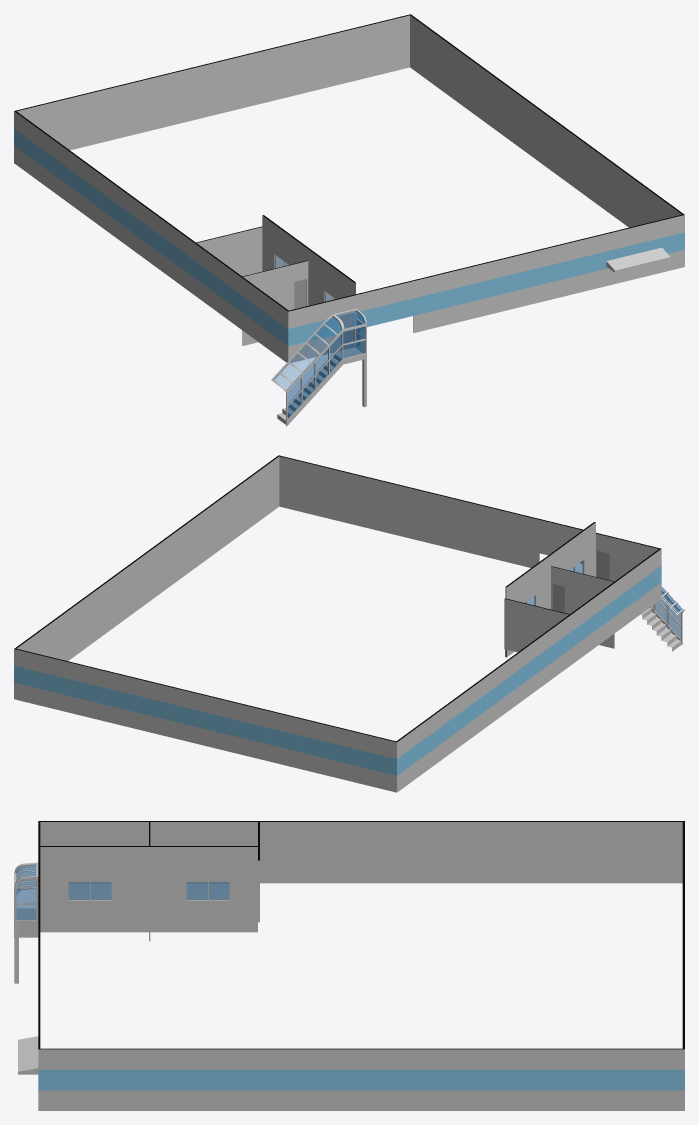
3 renders of one model, top to bottom at view 1: azimuth 30°, elevation 25°; view 2: azimuth 150°, elevation 25°; view 3: azimuth 270°, elevation 25°, orthographic. The views are drawn at different scales.
Parts seen in each view (by area): view 1: V7동_2F, V7동_외부 계단, V7동_2F_방화문; view 2: V7동_2F, V7동_외부 계단, V7동_2F_방화문; view 3: V7동_2F, V7동_외부 계단, V7동_복층_창문, V7동_복층_바닥.
Part boxes in pixels (x1,y1,x2,y2): V7동_2F: [14, 14, 684, 362]; V7동_외부 계단: [271, 308, 366, 426]; V7동_2F_방화문: [294, 279, 353, 350]; V7동_2F: [14, 455, 661, 792]; V7동_외부 계단: [640, 587, 684, 651]; V7동_2F_방화문: [552, 550, 609, 612]; V7동_2F: [18, 821, 684, 1110]; V7동_외부 계단: [14, 862, 38, 983]; V7동_복층_창문: [67, 881, 230, 901]; V7동_복층_바닥: [68, 883, 229, 899].
Size of the model in its own units: 24.94 by 6.7 by 29.67.
